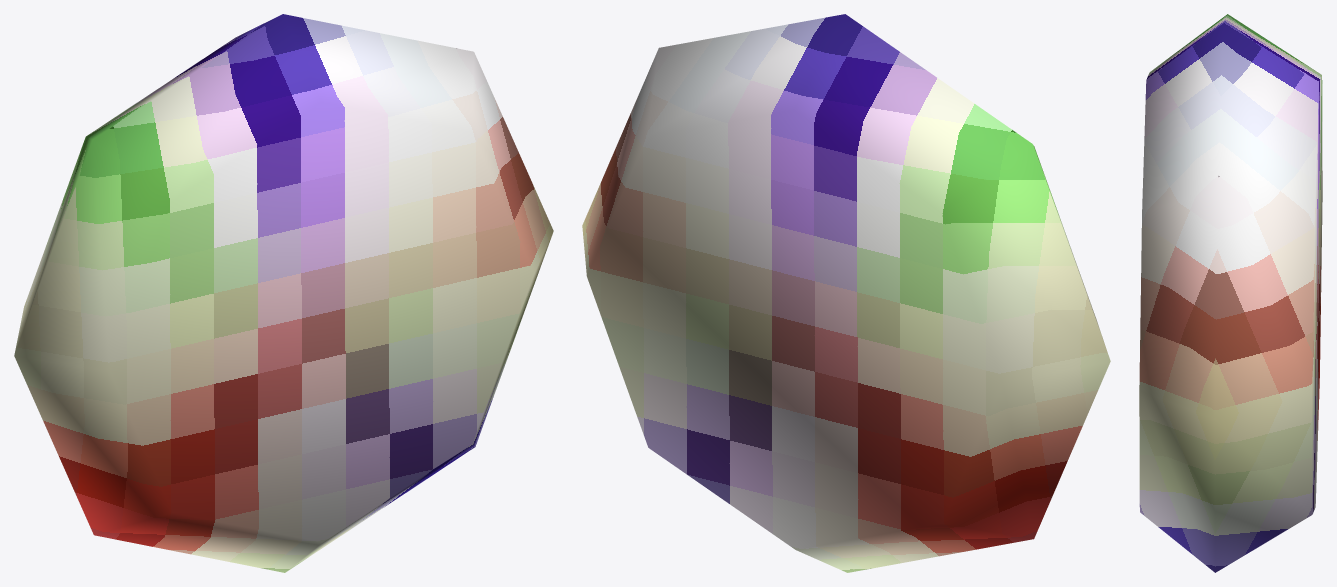
Rendered from sulcandy.glb.
3 views of the same model, side by side, from view 1: azimuth 30°, elevation 25°; view 2: azimuth 150°, elevation 25°; view 3: azimuth 270°, elevation 25° (orthographic). The views are drawn at different scales.
Visible parts, largest first — view 1: model_sulcandy; view 2: model_sulcandy; view 3: model_sulcandy.
Part boxes in pixels (x1=…): model_sulcandy: x1=14, y1=14, x2=553, y2=572; model_sulcandy: x1=582, y1=14, x2=1110, y2=572; model_sulcandy: x1=1139, y1=14, x2=1322, y2=572.
Bounding box in the file's own units: 0.0855 × 0.0855 × 0.0263.
Materials: 1 (1 with a texture image).
